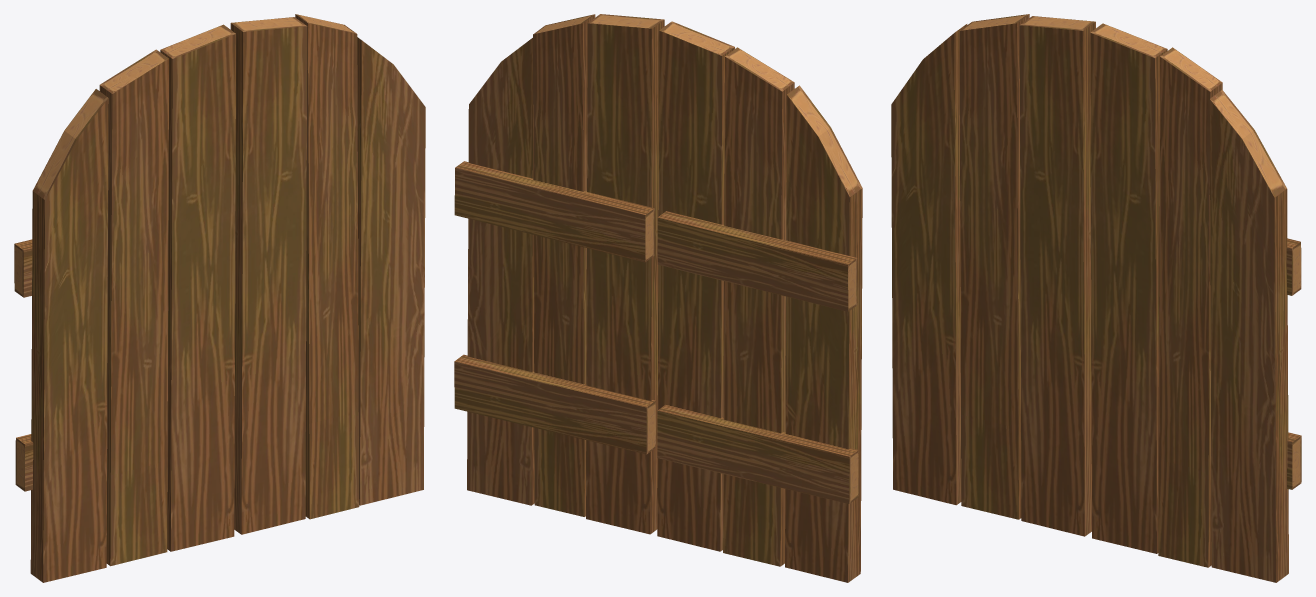
File: WindowShutters_Wide_Round_Closed.glb
3 renders of one model, left to right at view 1: azimuth 30°, elevation 25°; view 2: azimuth 150°, elevation 25°; view 3: azimuth 330°, elevation 25°, orthographic.
Visible parts, largest first — view 1: WindowShutters_Wide_Round_Closed; view 2: WindowShutters_Wide_Round_Closed; view 3: WindowShutters_Wide_Round_Closed.
Part boxes in pixels (x1,y1,x2,y2): WindowShutters_Wide_Round_Closed: [14, 14, 425, 582]; WindowShutters_Wide_Round_Closed: [454, 14, 862, 582]; WindowShutters_Wide_Round_Closed: [891, 14, 1301, 582].
Bounding box in the file's own units: 1.35 × 1.65 × 0.1357.
1 material, 1 textured.
